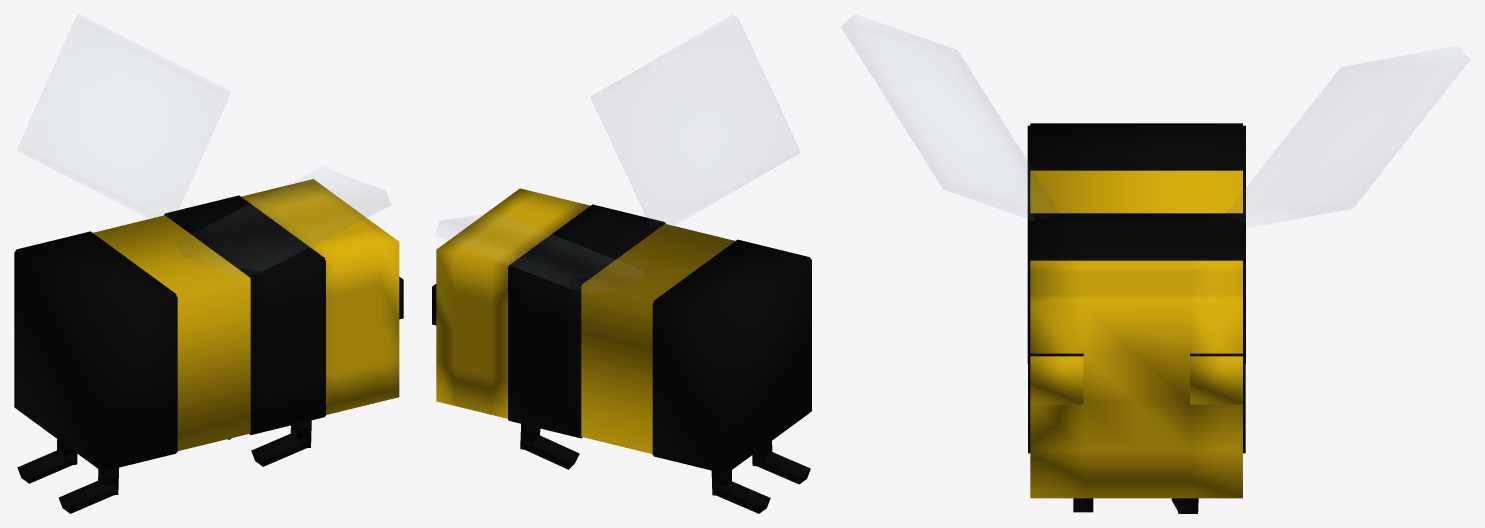
Rendered from bee_ifstudio.fbx.
The picture shows the model from 3 angles, left to right: view 1: azimuth 30°, elevation 25°; view 2: azimuth 150°, elevation 25°; view 3: azimuth 270°, elevation 25°; orthographic projection. The views are drawn at different scales.
Parts seen in each view (by area): view 1: Тело, Тело.2, Объект Куб.4.2, Объект Куб.3, Объект Куб.2; view 2: Тело, Тело.2, Объект Куб.5, Объект Куб.2, Объект Куб.3; view 3: Тело.2, Тело.
Boxes of the visible parts, <box> form: Тело: <box>14,215,250,471</box>; Тело.2: <box>164,179,403,434</box>; Объект Куб.4.2: <box>251,420,311,466</box>; Объект Куб.3: <box>59,467,118,513</box>; Объект Куб.2: <box>17,439,77,483</box>; Тело: <box>581,224,811,473</box>; Тело.2: <box>432,188,665,438</box>; Объект Куб.5: <box>520,424,579,469</box>; Объект Куб.2: <box>711,470,770,513</box>; Объект Куб.3: <box>752,441,810,484</box>; Тело.2: <box>1028,213,1245,498</box>; Тело: <box>1027,123,1245,363</box>.
Bounding box in the file's own units: 13.45 × 15.11 × 18.51.
